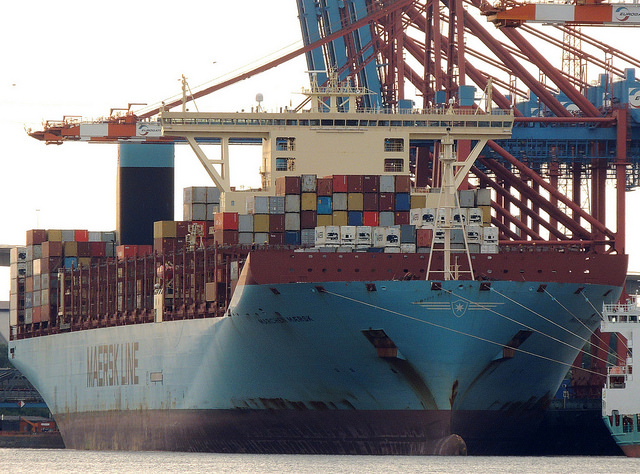container_ship: (11, 83, 614, 455)
